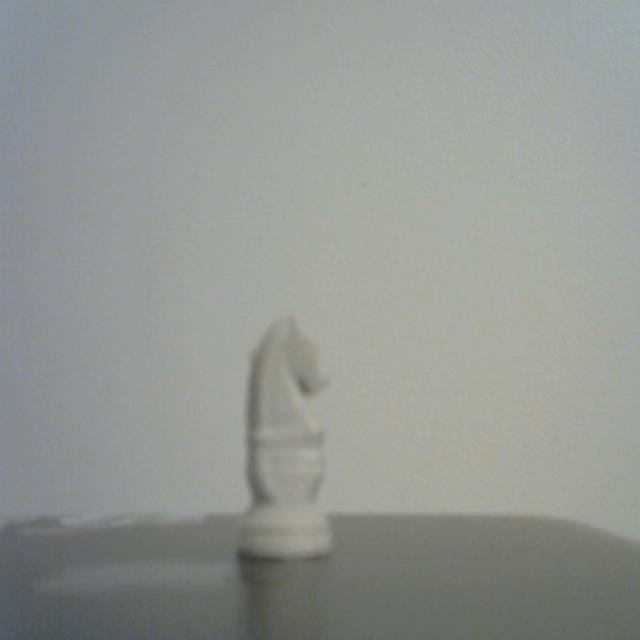white-knight: (226, 283, 347, 584)
